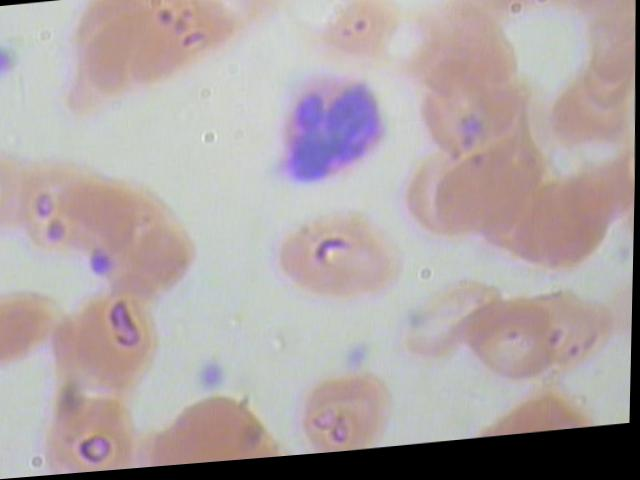Platelets: (195, 353, 235, 397), (335, 340, 375, 384)
Red Blood Cells: (276, 209, 408, 319), (63, 282, 167, 400), (515, 179, 619, 288), (287, 368, 400, 461), (390, 282, 503, 375), (436, 155, 531, 247), (134, 0, 229, 92), (81, 13, 176, 105), (462, 303, 557, 394), (153, 392, 260, 469), (44, 394, 143, 476), (310, 0, 405, 84)
White Blood Cells: (272, 64, 398, 201)
